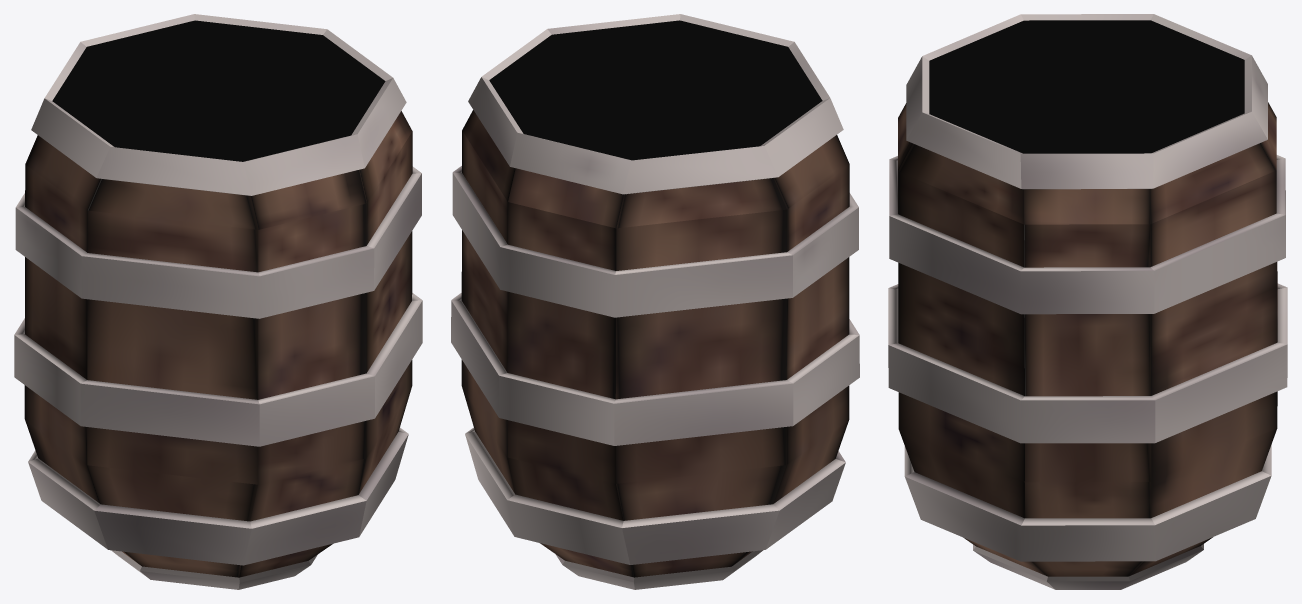
File: barril.obj
3 renders of one model, left to right at view 1: azimuth 30°, elevation 25°; view 2: azimuth 150°, elevation 25°; view 3: azimuth 270°, elevation 25°, orthographic.
Visible parts, largest first — view 1: barril; view 2: barril; view 3: barril.
Boxes of the visible parts, x1=… form: barril: x1=14, y1=14, x2=422, y2=589; barril: x1=451, y1=14, x2=859, y2=589; barril: x1=888, y1=14, x2=1287, y2=589.
Size of the model in its own units: 3.16 by 4.06 by 3.16.
Materials: 1 (1 with a texture image).
